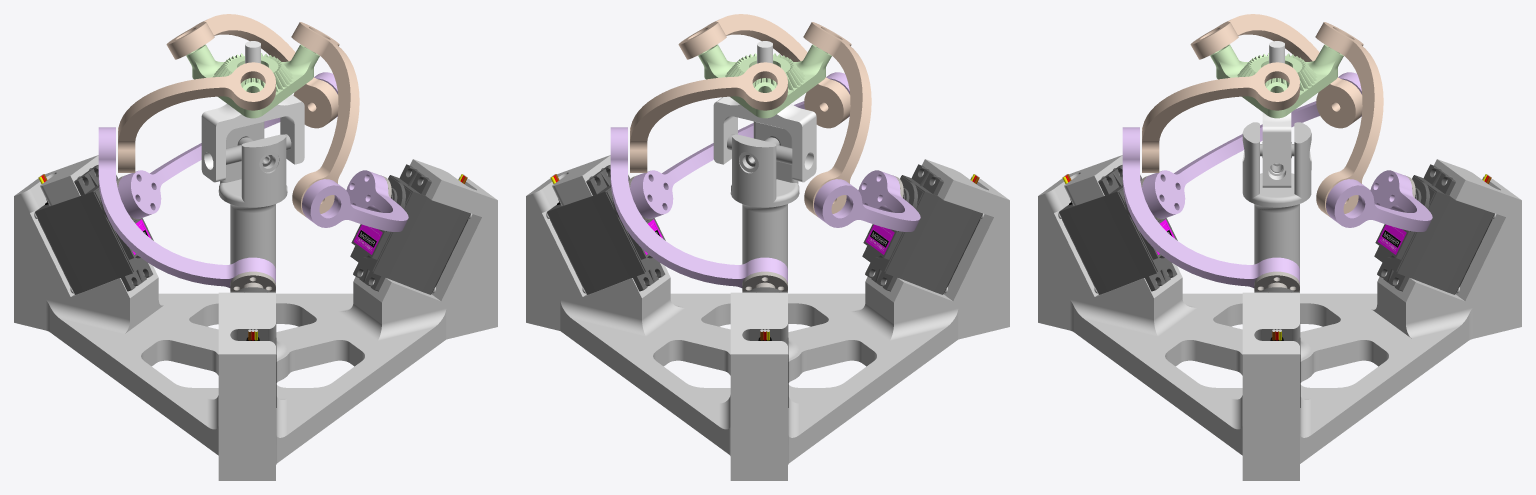
3 renders of one model, left to right at view 1: azimuth 30°, elevation 25°; view 2: azimuth 150°, elevation 25°; view 3: azimuth 270°, elevation 25°, orthographic.
Parts seen in each view (by area): view 1: PRT - Servo Base Frame-2, ProtoServo-1, ProtoServo-5, PRT - Actuated Link - LuLe-10, PRT - Passive Joint - LuLe-12, PRT - Passive Joint - LuLe-11, PRT - Passive Joint - LuLe-10, PRT - Actuated Link - LuLe-8, PRT - OutputLink - LuLe-1, PRT - End Effector - LuLe-2, PRT - Actuated Link - LuLe-9, Ass servo-3; view 2: PRT - Servo Base Frame-2, ProtoServo-6, ProtoServo-1, PRT - Actuated Link - LuLe-9, PRT - Passive Joint - LuLe-10, PRT - Passive Joint - LuLe-12, PRT - Passive Joint - LuLe-11, PRT - Actuated Link - LuLe-10, PRT - OutputLink - LuLe-1, PRT - End Effector - LuLe-2, PRT - Actuated Link - LuLe-8, Ass servo-2; view 3: PRT - Servo Base Frame-2, ProtoServo-5, ProtoServo-6, PRT - Actuated Link - LuLe-8, PRT - Passive Joint - LuLe-11, PRT - Passive Joint - LuLe-12, PRT - Passive Joint - LuLe-10, PRT - Actuated Link - LuLe-9, PRT - End Effector - LuLe-2, PRT - Actuated Link - LuLe-10, PRT - OutputLink - LuLe-1, Ass servo-1.
Part boxes in pixels (x1=…): PRT - Servo Base Frame-2: x1=14, y1=121, x2=497, y2=480; ProtoServo-1: x1=350, y1=164, x2=472, y2=294; ProtoServo-5: x1=34, y1=165, x2=153, y2=294; PRT - Actuated Link - LuLe-10: x1=98, y1=127, x2=275, y2=287; PRT - Passive Joint - LuLe-12: x1=118, y1=62, x2=275, y2=172; PRT - Passive Joint - LuLe-11: x1=291, y1=22, x2=359, y2=217; PRT - Passive Joint - LuLe-10: x1=166, y1=14, x2=338, y2=128; PRT - Actuated Link - LuLe-8: x1=302, y1=170, x2=408, y2=231; PRT - OutputLink - LuLe-1: x1=201, y1=41, x2=304, y2=182; PRT - End Effector - LuLe-2: x1=186, y1=44, x2=319, y2=118; PRT - Actuated Link - LuLe-9: x1=118, y1=72, x2=337, y2=218; Ass servo-3: x1=230, y1=271, x2=275, y2=291; PRT - Servo Base Frame-2: x1=526, y1=121, x2=1009, y2=480; ProtoServo-6: x1=862, y1=164, x2=984, y2=294; ProtoServo-1: x1=546, y1=165, x2=665, y2=294; PRT - Actuated Link - LuLe-9: x1=610, y1=127, x2=787, y2=287; PRT - Passive Joint - LuLe-10: x1=630, y1=62, x2=787, y2=172; PRT - Passive Joint - LuLe-12: x1=803, y1=22, x2=871, y2=217; PRT - Passive Joint - LuLe-11: x1=678, y1=14, x2=850, y2=128; PRT - Actuated Link - LuLe-10: x1=814, y1=170, x2=920, y2=231; PRT - OutputLink - LuLe-1: x1=713, y1=41, x2=816, y2=182; PRT - End Effector - LuLe-2: x1=698, y1=44, x2=831, y2=118; PRT - Actuated Link - LuLe-8: x1=630, y1=72, x2=849, y2=218; Ass servo-2: x1=742, y1=271, x2=787, y2=291; PRT - Servo Base Frame-2: x1=1038, y1=122, x2=1521, y2=480; ProtoServo-5: x1=1374, y1=164, x2=1496, y2=294; ProtoServo-6: x1=1058, y1=165, x2=1177, y2=294; PRT - Actuated Link - LuLe-8: x1=1122, y1=127, x2=1299, y2=287; PRT - Passive Joint - LuLe-11: x1=1142, y1=62, x2=1299, y2=172; PRT - Passive Joint - LuLe-12: x1=1190, y1=14, x2=1362, y2=128; PRT - Passive Joint - LuLe-10: x1=1315, y1=22, x2=1383, y2=217; PRT - Actuated Link - LuLe-9: x1=1326, y1=170, x2=1432, y2=231; PRT - End Effector - LuLe-2: x1=1210, y1=44, x2=1343, y2=118; PRT - Actuated Link - LuLe-10: x1=1142, y1=72, x2=1361, y2=218; PRT - OutputLink - LuLe-1: x1=1262, y1=41, x2=1291, y2=187; Ass servo-1: x1=1254, y1=271, x2=1299, y2=291.
Bounding box in the file's own units: 0.1851 × 0.1597 × 0.2108.
